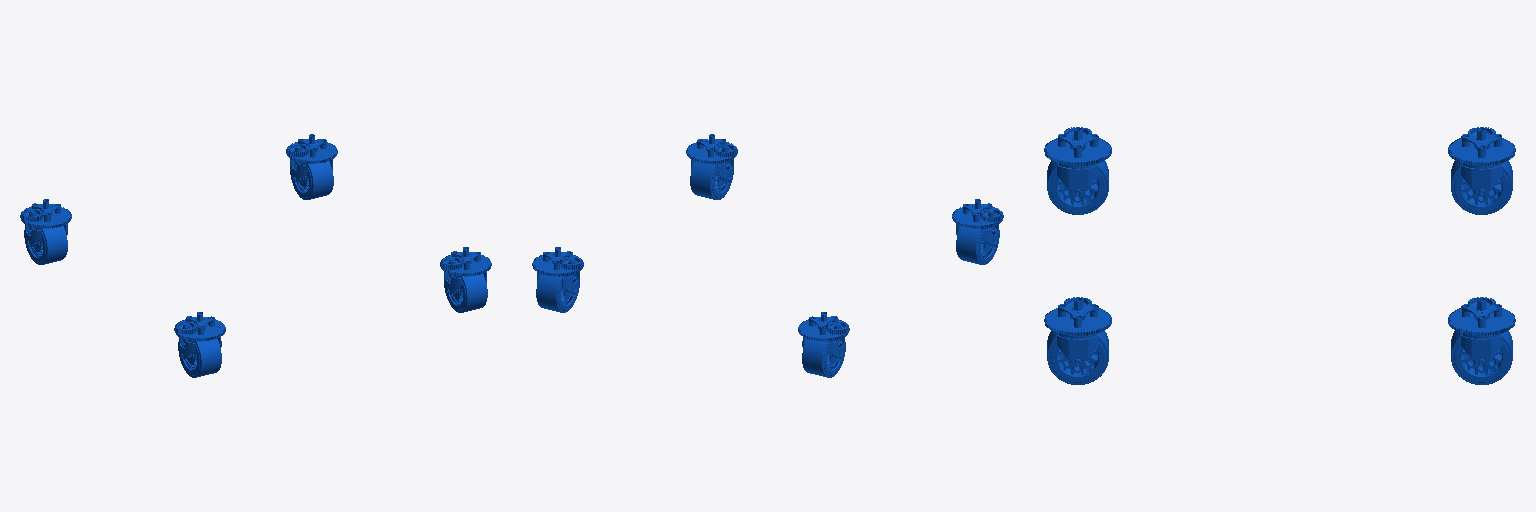
robot.urdf — frc_swerve:
<?xml version="1.0"?>
<robot name="frc_swerve">

  <link name="base_footprint"/>

  <!-- Fixed base joint setting chassis height above ground -->
  <joint name="base_joint" type="fixed">
    <parent link="base_footprint"/>
    <child link="chassis_link"/>
    <origin xyz="0 0 0.18" rpy="0 0 0"/>
  </joint>

  <!-- ==================== CHASSIS ==================== -->
  <link name="chassis_link">
    <inertial>
      <mass value="45.0"/>
      <origin xyz="0 0 0.0" rpy="0 0 0"/>
      <inertia ixx="1.8" ixy="0" ixz="0" iyy="1.8" iyz="0" izz="3.0"/>
    </inertial>
    <visual>
      <origin xyz="0 0 0" rpy="0 0 0"/>
      <geometry>
        <mesh filename="meshes/Chassis.stl"/>
      </geometry>
      <material name="chassis_dark_gray">
        <color rgba="0.2 0.2 0.2 1.0"/>
      </material>
    </visual>
    <collision>
      <origin xyz="0 0 0" rpy="0 0 0"/>
      <geometry>
        <box size="0.75 0.75 0.15"/>
      </geometry>
    </collision>
  </link>

  <!-- Gazebo Material Extension: Dark Charcoal Chassis -->
  <gazebo reference="chassis_link">
    <visual>
      <material>
        <ambient>0.2 0.2 0.2 1.0</ambient>
        <diffuse>0.25 0.25 0.25 1.0</diffuse>
        <specular>0.4 0.4 0.4 1.0</specular>
      </material>
    </visual>
  </gazebo>

  <!-- ==================== FRONT LEFT ==================== -->
  <link name="fl_steer_link">
    <inertial>
      <mass value="1.5"/>
      <origin xyz="0 0 -0.05" rpy="0 0 0"/>
      <inertia ixx="0.002" ixy="0" ixz="0" iyy="0.002" iyz="0" izz="0.003"/>
    </inertial>
    <visual>
      <origin xyz="0 0 0" rpy="0 0 0"/>
      <geometry>
        <mesh filename="meshes/Wheel.stl"/>
      </geometry>
      <material name="module_blue">
        <color rgba="0.1 0.4 0.8 1.0"/>
      </material>
    </visual>
  </link>

  <joint name="fl_steer_joint" type="continuous">
    <parent link="chassis_link"/>
    <child link="fl_steer_link"/>
    <origin xyz="0.28890 0.28974 0.1280" rpy="0 0 0"/>
    <axis xyz="0 0 1"/>
    <limit effort="15.0" velocity="25.0"/>
  </joint>

  <gazebo reference="fl_steer_link">
    <visual>
      <material>
        <ambient>0.1 0.4 0.8 1.0</ambient>
        <diffuse>0.15 0.5 0.9 1.0</diffuse>
        <specular>0.5 0.5 0.5 1.0</specular>
      </material>
    </visual>
  </gazebo>

  <!-- ==================== FRONT RIGHT ==================== -->
  <link name="fr_steer_link">
    <inertial>
      <mass value="1.5"/>
      <origin xyz="0 0 -0.05" rpy="0 0 0"/>
      <inertia ixx="0.002" ixy="0" ixz="0" iyy="0.002" iyz="0" izz="0.003"/>
    </inertial>
    <visual>
      <origin xyz="0 0 0" rpy="0 0 0"/>
      <geometry>
        <mesh filename="meshes/Wheel.stl"/>
      </geometry>
      <material name="module_blue"/>
    </visual>
  </link>

  <joint name="fr_steer_joint" type="continuous">
    <parent link="chassis_link"/>
    <child link="fr_steer_link"/>
    <origin xyz="0.28890 -0.28974 0.1280" rpy="0 0 0"/>
    <axis xyz="0 0 1"/>
    <limit effort="15.0" velocity="25.0"/>
  </joint>

  <gazebo reference="fr_steer_link">
    <visual>
      <material>
        <ambient>0.1 0.4 0.8 1.0</ambient>
        <diffuse>0.15 0.5 0.9 1.0</diffuse>
        <specular>0.5 0.5 0.5 1.0</specular>
      </material>
    </visual>
  </gazebo>

  <!-- ==================== BACK LEFT ==================== -->
  <link name="bl_steer_link">
    <inertial>
      <mass value="1.5"/>
      <origin xyz="0 0 -0.05" rpy="0 0 0"/>
      <inertia ixx="0.002" ixy="0" ixz="0" iyy="0.002" iyz="0" izz="0.003"/>
    </inertial>
    <visual>
      <origin xyz="0 0 0" rpy="0 0 0"/>
      <geometry>
        <mesh filename="meshes/Wheel.stl"/>
      </geometry>
      <material name="module_blue"/>
    </visual>
  </link>

  <joint name="bl_steer_joint" type="continuous">
    <parent link="chassis_link"/>
    <child link="bl_steer_link"/>
    <origin xyz="-0.28890 0.28974 0.1280" rpy="0 0 0"/>
    <axis xyz="0 0 1"/>
    <limit effort="15.0" velocity="25.0"/>
  </joint>

  <gazebo reference="bl_steer_link">
    <visual>
      <material>
        <ambient>0.1 0.4 0.8 1.0</ambient>
        <diffuse>0.15 0.5 0.9 1.0</diffuse>
        <specular>0.5 0.5 0.5 1.0</specular>
      </material>
    </visual>
  </gazebo>

  <!-- ==================== BACK RIGHT ==================== -->
  <link name="br_steer_link">
    <inertial>
      <mass value="1.5"/>
      <origin xyz="0 0 -0.05" rpy="0 0 0"/>
      <inertia ixx="0.002" ixy="0" ixz="0" iyy="0.002" iyz="0" izz="0.003"/>
    </inertial>
    <visual>
      <origin xyz="0 0 0" rpy="0 0 0"/>
      <geometry>
        <mesh filename="meshes/Wheel.stl"/>
      </geometry>
      <material name="module_blue"/>
    </visual>
  </link>

  <joint name="br_steer_joint" type="continuous">
    <parent link="chassis_link"/>
    <child link="br_steer_link"/>
    <origin xyz="-0.28890 -0.28974 0.1280" rpy="0 0 0"/>
    <axis xyz="0 0 1"/>
    <limit effort="15.0" velocity="25.0"/>
  </joint>

  <gazebo reference="br_steer_link">
    <visual>
      <material>
        <ambient>0.1 0.4 0.8 1.0</ambient>
        <diffuse>0.15 0.5 0.9 1.0</diffuse>
        <specular>0.5 0.5 0.5 1.0</specular>
      </material>
    </visual>
  </gazebo>

  <!-- ==================== GAZEBO CONTROLLER PLUGINS ==================== -->
  <gazebo>
    <plugin filename="gz-sim-joint-position-controller-system" name="gz::sim::systems::JointPositionController">
      <joint_name>fl_steer_joint</joint_name>
      <topic>/model/frc_swerve/joint/fl_steer_joint/cmd_pos</topic>
      <p_gain>100.0</p_gain>
      <d_gain>1.0</d_gain>
    </plugin>

    <plugin filename="gz-sim-joint-position-controller-system" name="gz::sim::systems::JointPositionController">
      <joint_name>fr_steer_joint</joint_name>
      <topic>/model/frc_swerve/joint/fr_steer_joint/cmd_pos</topic>
      <p_gain>100.0</p_gain>
      <d_gain>1.0</d_gain>
    </plugin>

    <plugin filename="gz-sim-joint-position-controller-system" name="gz::sim::systems::JointPositionController">
      <joint_name>bl_steer_joint</joint_name>
      <topic>/model/frc_swerve/joint/bl_steer_joint/cmd_pos</topic>
      <p_gain>100.0</p_gain>
      <d_gain>1.0</d_gain>
    </plugin>

    <plugin filename="gz-sim-joint-position-controller-system" name="gz::sim::systems::JointPositionController">
      <joint_name>br_steer_joint</joint_name>
      <topic>/model/frc_swerve/joint/br_steer_joint/cmd_pos</topic>
      <p_gain>100.0</p_gain>
      <d_gain>1.0</d_gain>
    </plugin>
  </gazebo>

</robot>

--- Render facts (derived) ---
3 views of the same robot in one strip: view 1: azimuth 30°, elevation 25°; view 2: azimuth 150°, elevation 25°; view 3: azimuth 270°, elevation 25° (orthographic).
Model frc_swerve with 6 links and 5 joints (4 continuous, 1 fixed), rooted at base_footprint, posed all joints at 0.
Visible links, largest first — view 1: bl_steer_link, fr_steer_link, br_steer_link, fl_steer_link; view 2: br_steer_link, bl_steer_link, fl_steer_link, fr_steer_link; view 3: fl_steer_link, fr_steer_link, bl_steer_link, br_steer_link.
Link boxes in pixels (x1,y1,x2,y2): bl_steer_link: (20, 199, 71, 264); fr_steer_link: (440, 247, 491, 312); br_steer_link: (174, 312, 225, 377); fl_steer_link: (286, 134, 337, 199); br_steer_link: (952, 199, 1003, 264); bl_steer_link: (798, 312, 849, 377); fl_steer_link: (532, 247, 583, 312); fr_steer_link: (686, 134, 737, 199); fl_steer_link: (1448, 297, 1515, 384); fr_steer_link: (1044, 297, 1111, 384); bl_steer_link: (1448, 127, 1515, 214); br_steer_link: (1044, 127, 1111, 214).
Size in the robot's own frame: 0.6762 by 0.676 by 0.1262 metres.
4 mesh visuals loaded from 2 distinct referenced files (1 binary STL); not drawn: 1 (reference not matched to a file when rendering).
